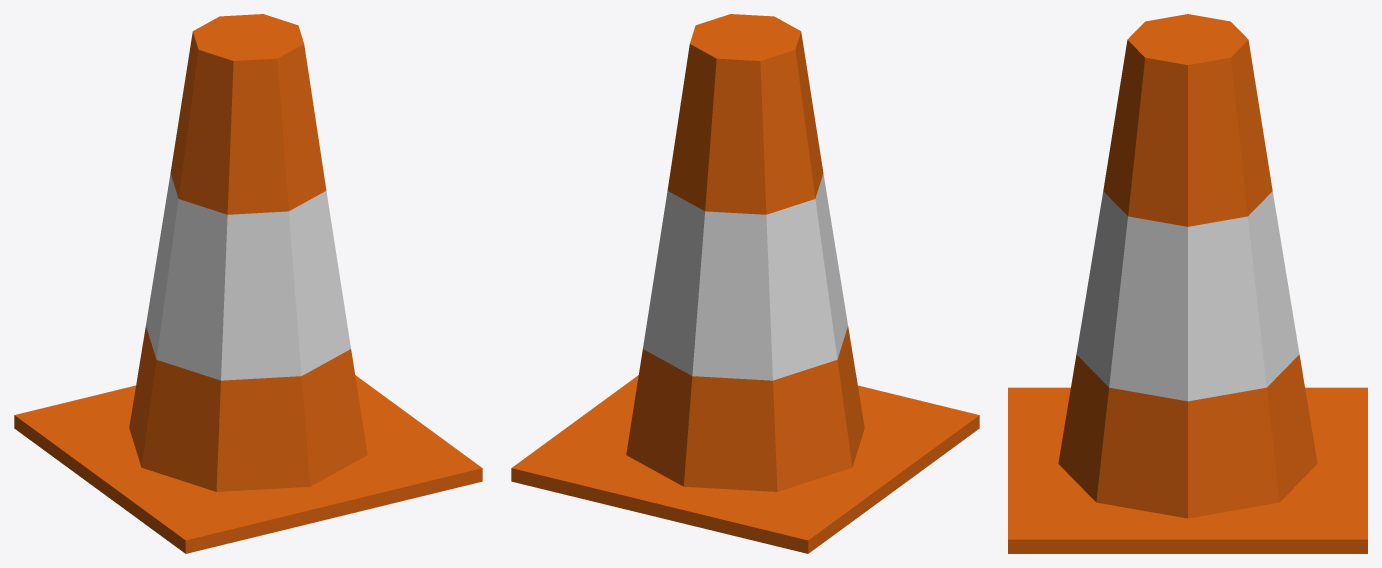
Rendered from lwpltrfccon1.fbx.
3 renders of one model, left to right at view 1: azimuth 30°, elevation 25°; view 2: azimuth 150°, elevation 25°; view 3: azimuth 270°, elevation 25°, orthographic. The views are drawn at different scales.
Visible parts, largest first — view 1: Cube.000; view 2: Cube.000; view 3: Cube.000.
Part boxes in pixels (x1,y1,x2,y2): Cube.000: (14,14,482,553); Cube.000: (511,14,979,553); Cube.000: (1008,14,1367,553).
Size of the model in its own units: 2.28 by 3.07 by 2.28.
